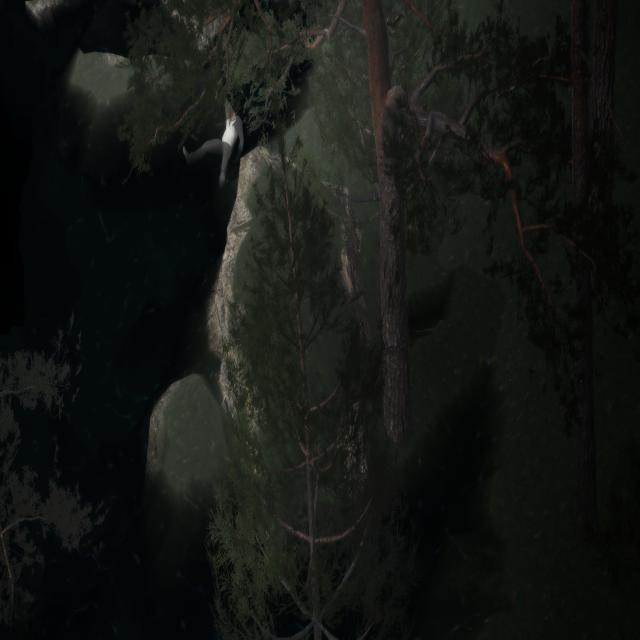Human: (181, 94, 246, 187)
